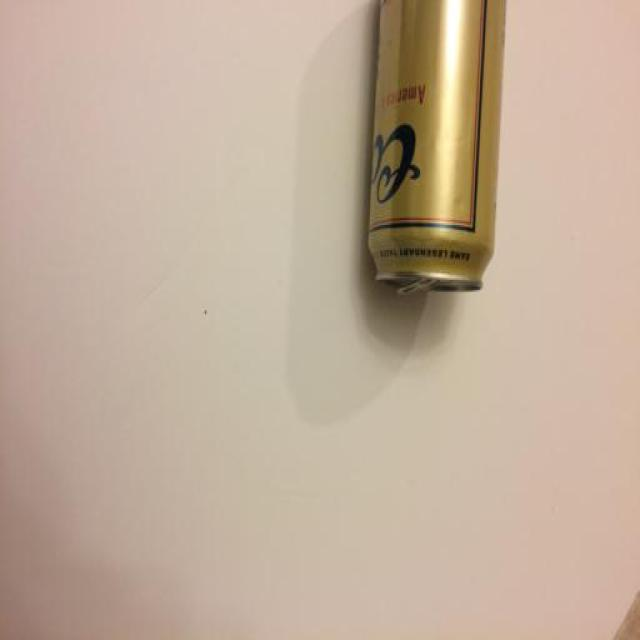Metal: (365, 0, 509, 293)
